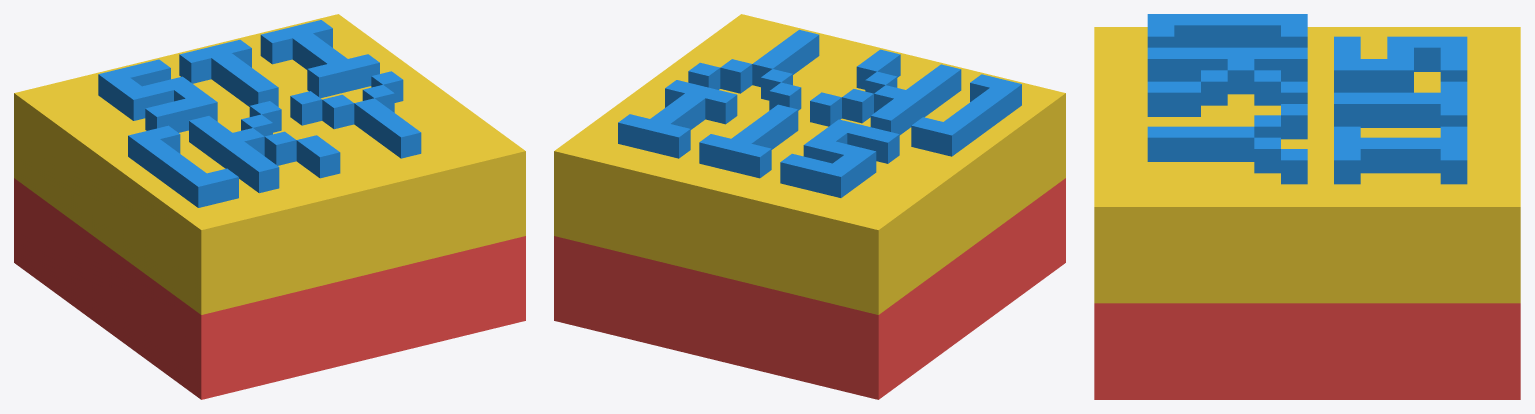
Rendered from Project2 custom 5.fbx.
3 views of the same model, side by side, from view 1: azimuth 30°, elevation 25°; view 2: azimuth 150°, elevation 25°; view 3: azimuth 270°, elevation 25° (orthographic). The views are drawn at different scales.
Parts seen in each view (by area): view 1: default; view 2: default; view 3: default.
Boxes of the visible parts, left/top/right/bottom form: default: left=14, top=14, right=525, bottom=399; default: left=554, top=14, right=1065, bottom=399; default: left=1094, top=14, right=1520, bottom=399.
Size of the model in its own units: 32 by 18 by 32.
